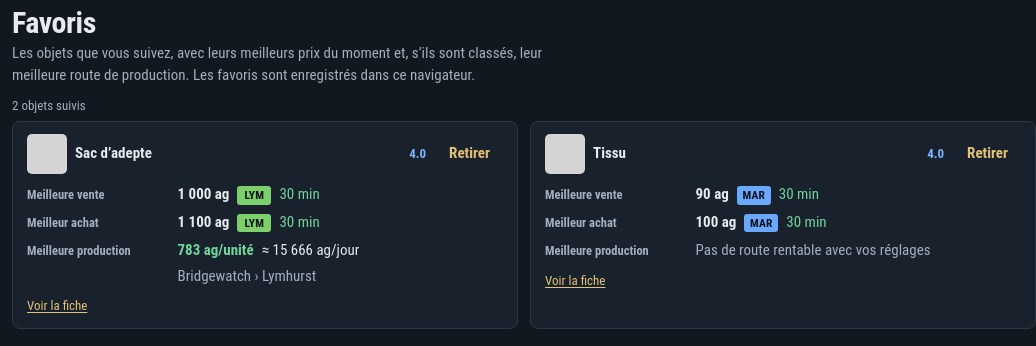
Test case: page Favoris › liste : nom, tier, meilleurs prix avec âge coloré, meilleure route, retrait
Check: the number of list items with class "fav-card" is 2, box [12,121,518,329]; [530,121,1035,329]
Check: the text "4.0" in the row of "Sac d’adepte" is shown, box [409,145,426,164]
Click the button with aria-label "Retirer Sac d’adepte des favoris" at (470, 154), box [436,136,503,172]
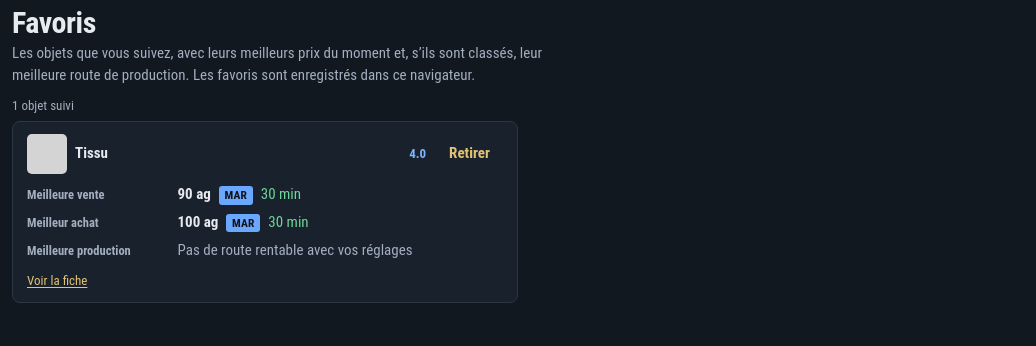
Check: the number of list items with class "fav-card" is 1, box [12,121,518,303]
